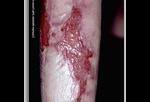NonPU: (40, 0, 96, 102)
